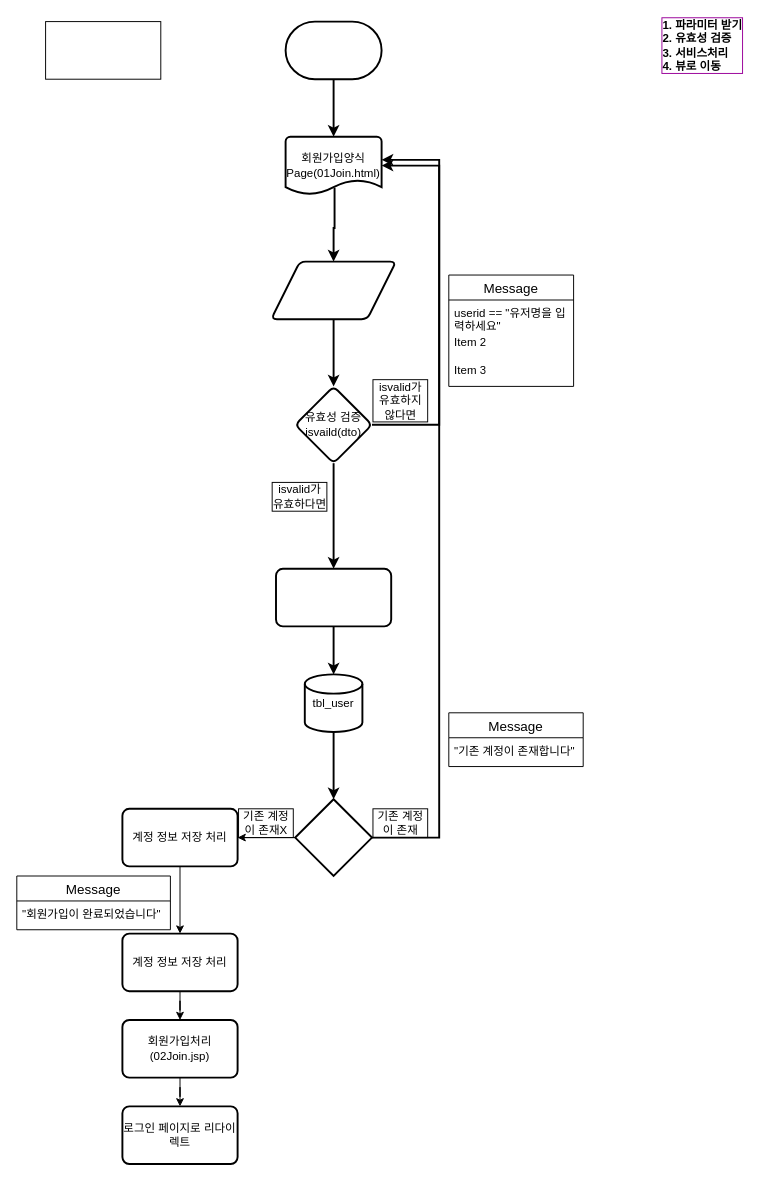
The diagram is 782 pixels wide and 1181 high, and some of its shapes have lost their labels. Here are the shapes that lost their labels. From the top down, the centre of each, then its label:
At point 103,50: "회원가입".
At point 333,50: "시작".
At point 333,290: "회원가입정보입력".
At point 333,597: "동일계정 유무 확인".
At point 333,837: "기존 계정 존재 유무".
